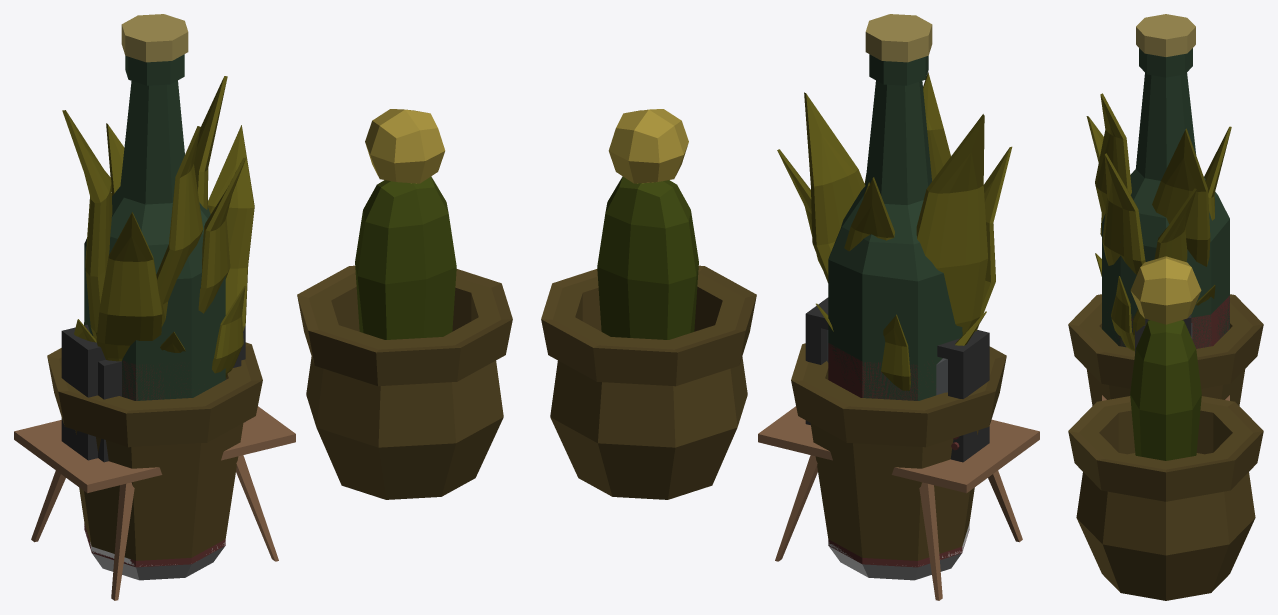
File: flower_1.fbx
3 views of the same model, side by side, from view 1: azimuth 30°, elevation 25°; view 2: azimuth 150°, elevation 25°; view 3: azimuth 270°, elevation 25° (orthographic). The views are drawn at different scales.
Parts seen in each view (by area): view 1: Cylinder.001, Cylinder, pivo, Cube.001, stolik, Cube.007, Cube.014, TV, Cube.008, Cube.003, Cube.004, beer can (+5 smaller); view 2: Cylinder.001, pivo, Cylinder, Cube.001, Cube.003, stolik, Cube.002, TV, Cube.014, beer can, pivo_vrch, Cube.005 (+4 smaller); view 3: Cylinder.001, pivo, Cube.001, Cylinder, Cube.002, Cube.014, Cube.006, pivo_vrch, Cube.004, Cube.008, beer can, Cube.011 (+2 smaller).
Boxes of the visible parts, x1,y1,x2,y2 form: Cylinder.001: [297, 265, 512, 499]; Cylinder: [47, 342, 262, 560]; pivo: [84, 54, 225, 400]; Cube.001: [355, 176, 456, 339]; stolik: [14, 406, 295, 600]; Cube.007: [96, 212, 162, 361]; Cube.014: [365, 109, 445, 183]; TV: [61, 324, 245, 462]; Cube.008: [207, 125, 254, 331]; Cube.003: [62, 110, 112, 340]; Cube.004: [156, 126, 203, 326]; beer can: [84, 361, 225, 580]; Cylinder.001: [541, 265, 756, 499]; pivo: [828, 54, 962, 400]; Cylinder: [791, 343, 1006, 560]; Cube.001: [597, 176, 698, 339]; Cube.003: [916, 114, 987, 335]; stolik: [758, 406, 1039, 600]; Cube.002: [804, 92, 865, 282]; TV: [805, 297, 989, 462]; Cube.014: [608, 109, 688, 183]; beer can: [828, 343, 969, 580]; pivo_vrch: [865, 14, 932, 62]; Cube.005: [844, 177, 894, 251]; Cylinder.001: [1068, 396, 1263, 600]; pivo: [1102, 48, 1229, 348]; Cube.001: [1130, 320, 1201, 460]; Cylinder: [1068, 294, 1263, 405]; Cube.002: [1152, 128, 1210, 266]; Cube.014: [1130, 256, 1201, 324]; Cube.006: [1102, 153, 1145, 274]; pivo_vrch: [1136, 14, 1195, 56]; Cube.004: [1095, 93, 1131, 218]; Cube.008: [1133, 188, 1196, 340]; beer can: [1107, 295, 1229, 348]; Cube.011: [1111, 276, 1134, 351].
Bounding box in the file's own units: 712 × 796 × 306.
